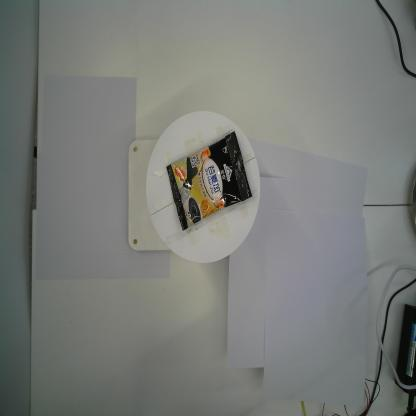Instant Drink: (166, 131, 253, 231)
